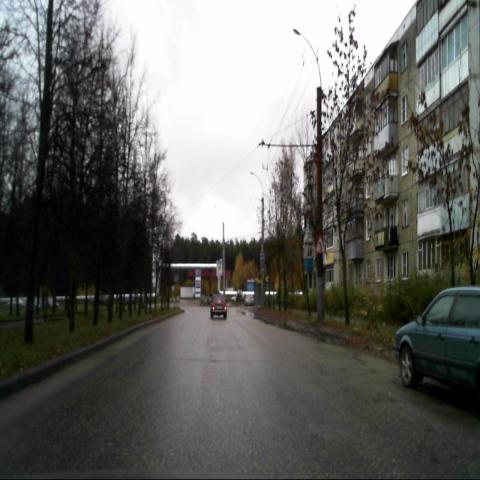1_11_1: (314, 234, 326, 254)
